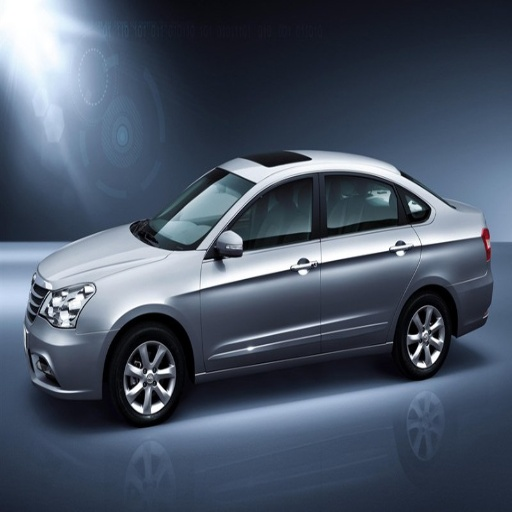back_left_door: (320, 171, 419, 350)
front_bumper: (25, 312, 110, 399)
front_glass: (131, 170, 250, 248)
front_left_door: (205, 172, 322, 369)
